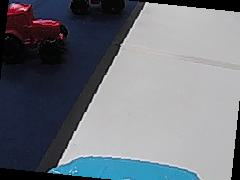Tracktor: (1, 1, 71, 64), (68, 1, 125, 19)
